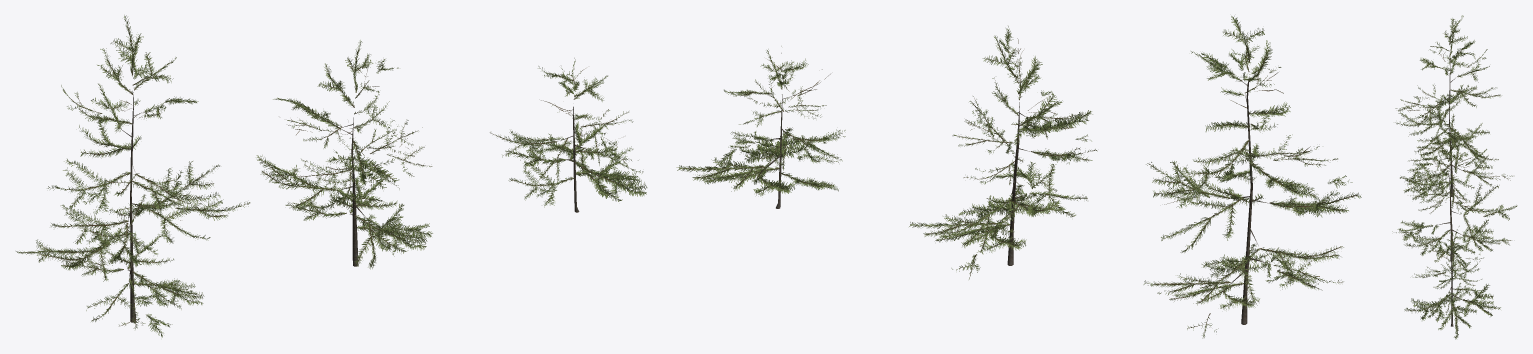
Rendered from fir_optimized.glb.
3 views of the same model, side by side, from view 1: azimuth 30°, elevation 25°; view 2: azimuth 150°, elevation 25°; view 3: azimuth 270°, elevation 25° (orthographic). The views are drawn at different scales.
Visible parts, largest first — view 1: fir_sapling_a, fir_sapling_b, fir_sapling_c; view 2: fir_sapling_a, fir_sapling_b, fir_sapling_c; view 3: fir_sapling_a, fir_sapling_b, fir_sapling_c.
Boxes of the visible parts, x1=… form: fir_sapling_a: x1=16, y1=15, x2=250, y2=337; fir_sapling_b: x1=256, y1=40, x2=432, y2=269; fir_sapling_c: x1=490, y1=58, x2=647, y2=212; fir_sapling_a: x1=1143, y1=16, x2=1361, y2=338; fir_sapling_b: x1=909, y1=26, x2=1097, y2=279; fir_sapling_c: x1=676, y1=46, x2=845, y2=208; fir_sapling_a: x1=1395, y1=15, x2=1512, y2=208; fir_sapling_b: x1=1392, y1=129, x2=1517, y2=273; fir_sapling_c: x1=1404, y1=226, x2=1500, y2=339.
Size of the model in its own units: 2.74 by 1.3 by 0.8166.
Materials: 2 (2 with a texture image).
